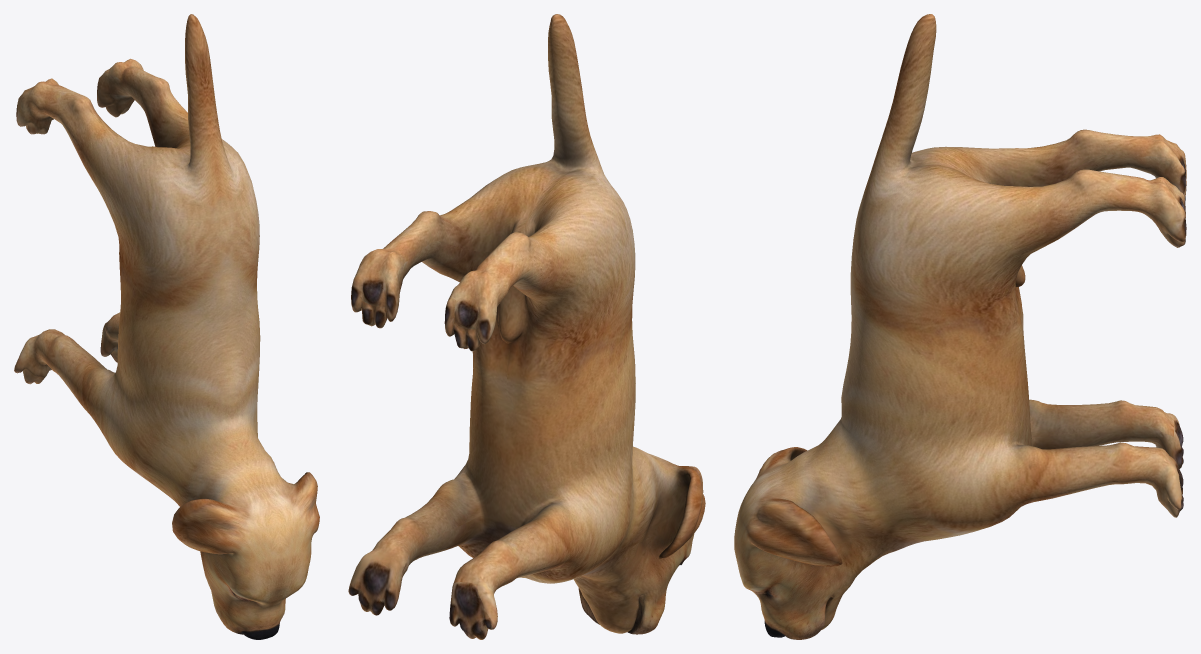
Rendered from dog.glb.
3 views of the same model, side by side, from view 1: azimuth 30°, elevation 25°; view 2: azimuth 150°, elevation 25°; view 3: azimuth 270°, elevation 25° (orthographic). The views are drawn at different scales.
Visible parts, largest first — view 1: mesh_0; view 2: mesh_0; view 3: mesh_0.
Boxes of the visible parts, x1,y1,x2,y2 form: mesh_0: [14, 14, 319, 639]; mesh_0: [348, 14, 705, 639]; mesh_0: [734, 14, 1186, 639].
Bounding box in the file's own units: 0.6452 × 2.59 × 1.72.
1 material, 1 textured.
